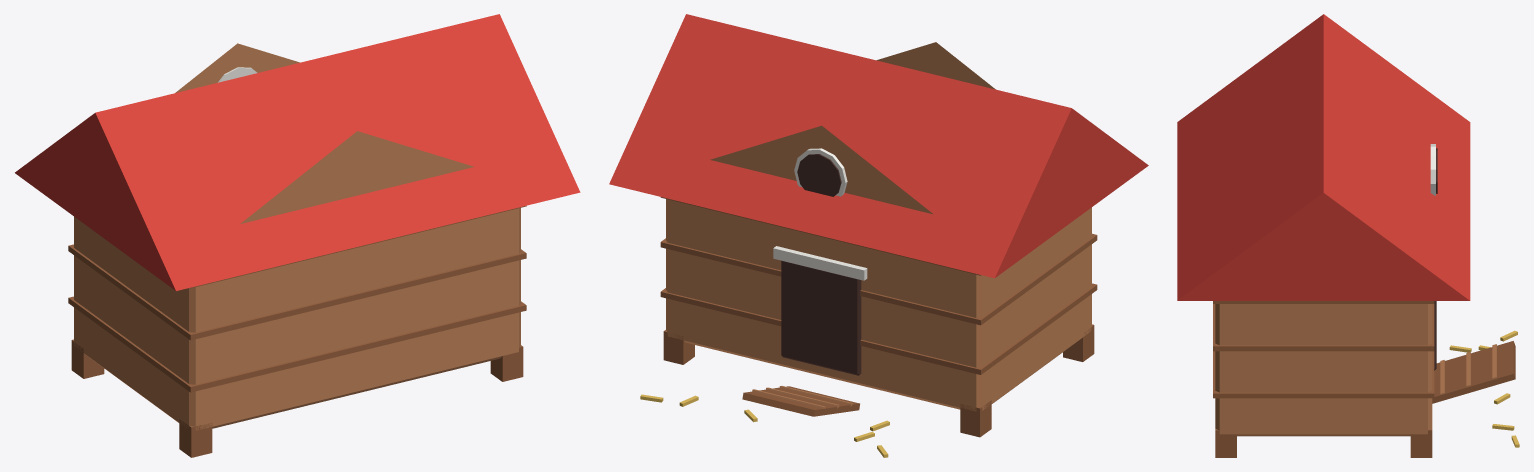
The model's file is Kumes_Model.fbx.
3 views of the same model, side by side, from view 1: azimuth 30°, elevation 25°; view 2: azimuth 150°, elevation 25°; view 3: azimuth 270°, elevation 25° (orthographic). The views are drawn at different scales.
Parts seen in each view (by area): view 1: Kumes_Model; view 2: Kumes_Model; view 3: Kumes_Model.
Part boxes in pixels (left/top/right/bottom): Kumes_Model: left=15, top=14, right=580, bottom=457; Kumes_Model: left=609, top=14, right=1148, bottom=457; Kumes_Model: left=1177, top=14, right=1519, bottom=457.
Size of the model in its own units: 195 by 145 by 158.
